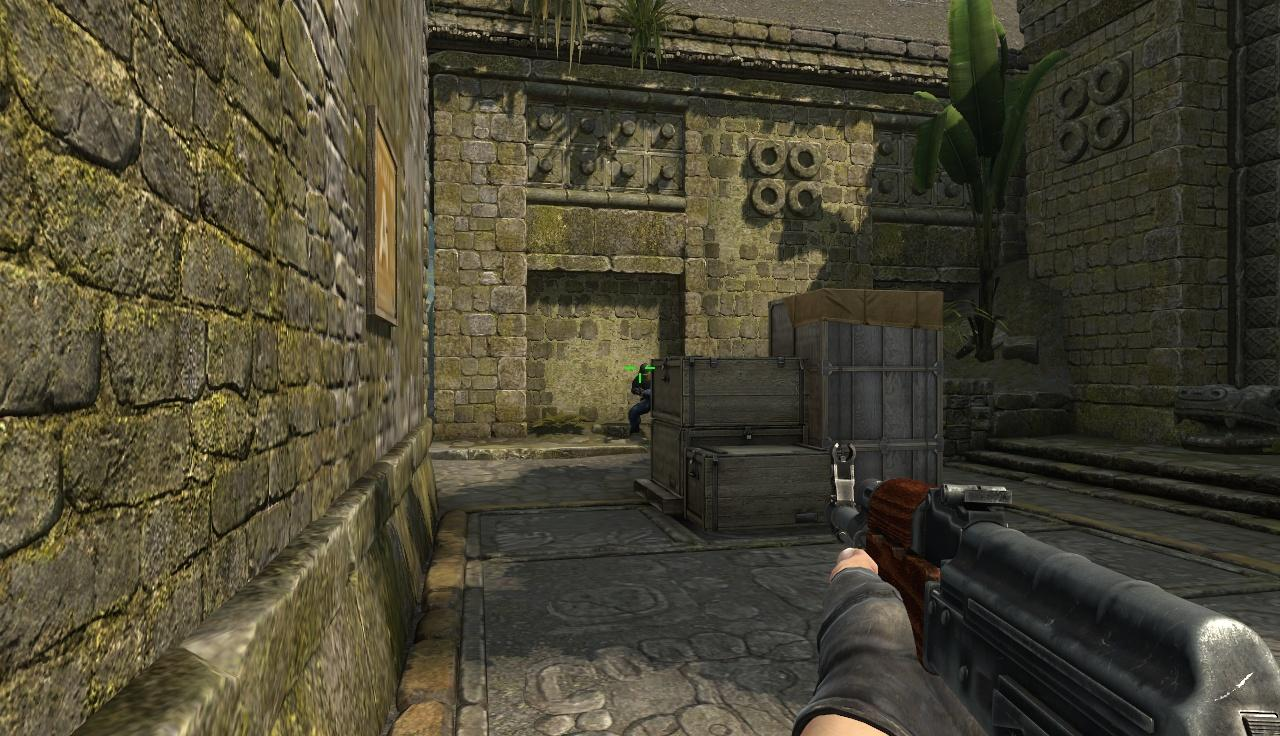ct: (631, 363, 651, 434)
cthead: (639, 363, 651, 381)
rifle: (832, 440, 1280, 731)
